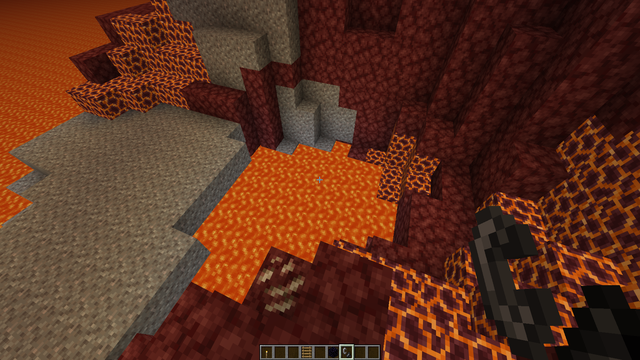quartz: (246, 247, 318, 324)
